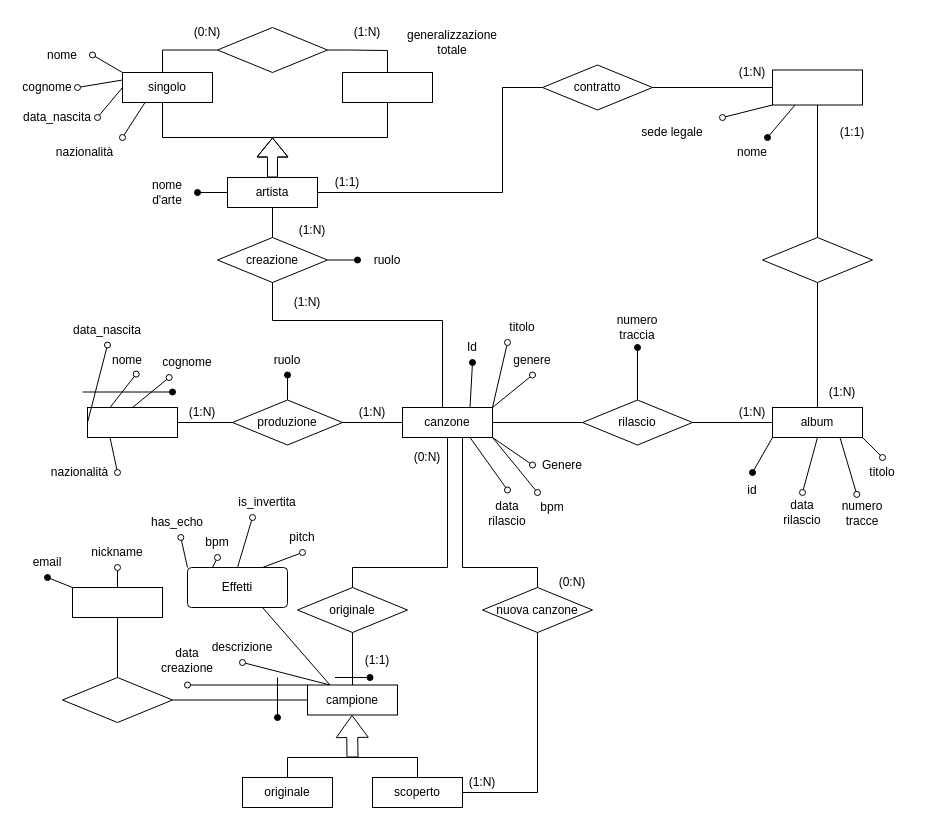
Image size: 929x825. Some labels were removed from this diagram. Each missing label, with the box of its shape:
band: (342, 72, 432, 102)
casa discografica: (772, 69, 862, 105)
distribuzione: (762, 236, 872, 282)
membro: (216, 26, 328, 72)
tecnico: (86, 406, 178, 438)
upload: (62, 676, 172, 722)
utente: (72, 586, 162, 618)
